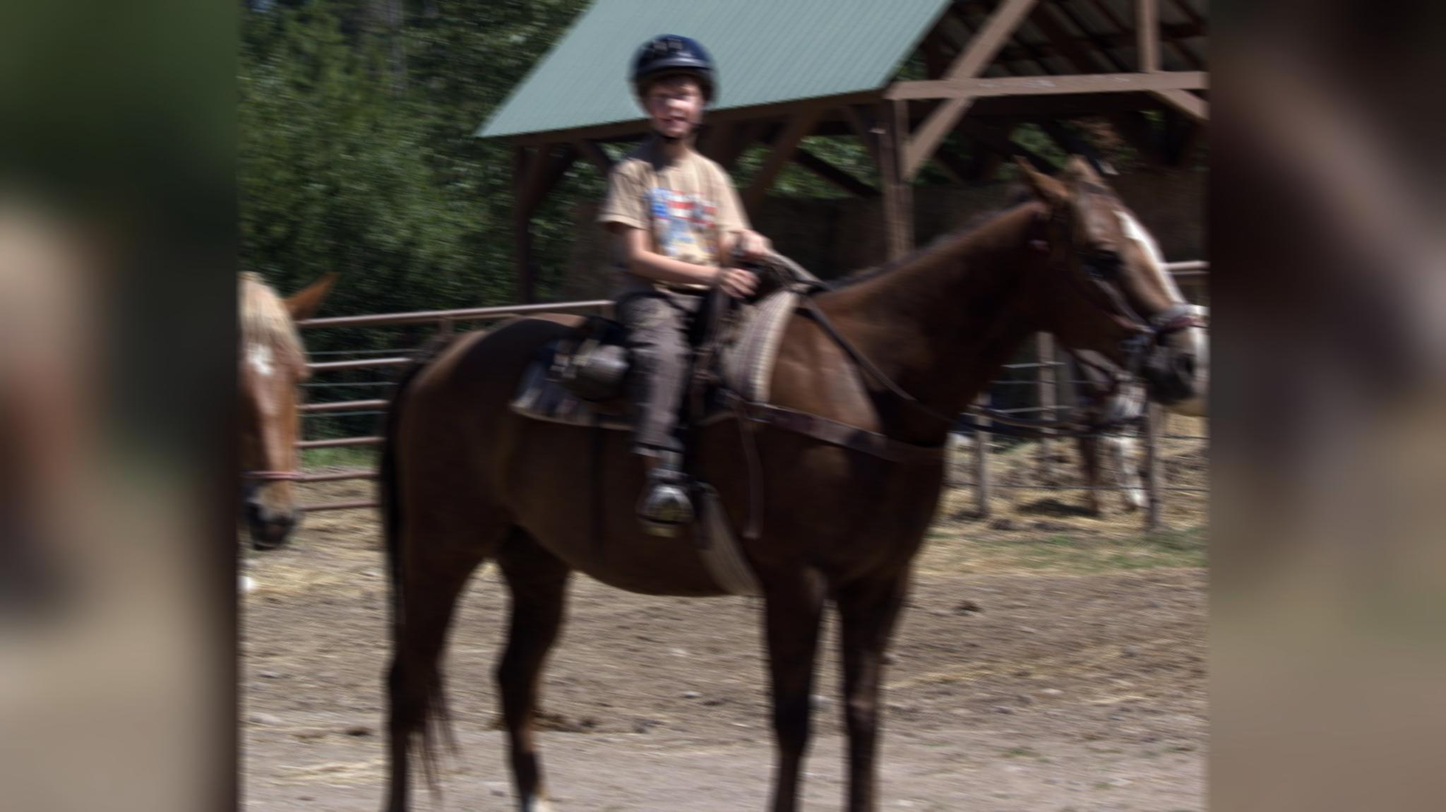horse: (358, 147, 1207, 812)
